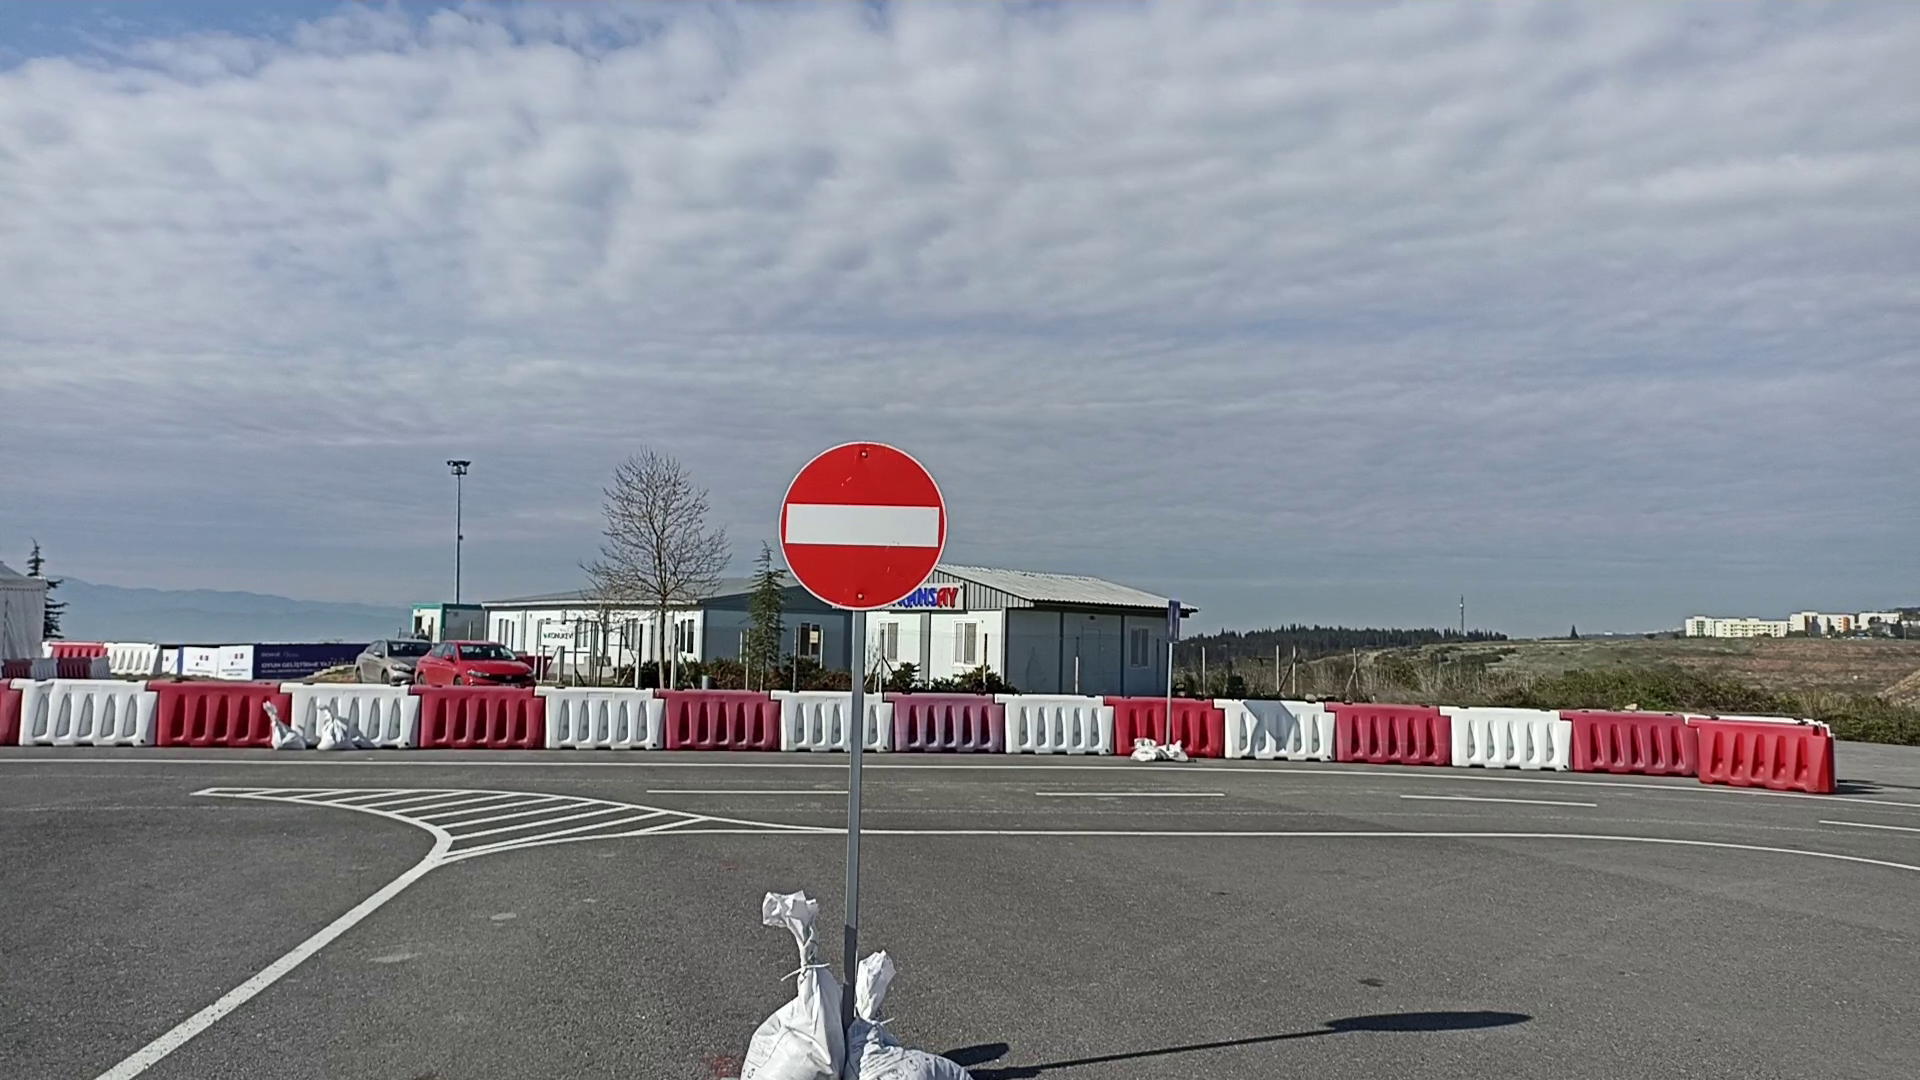noentryway: (774, 435, 951, 615)
